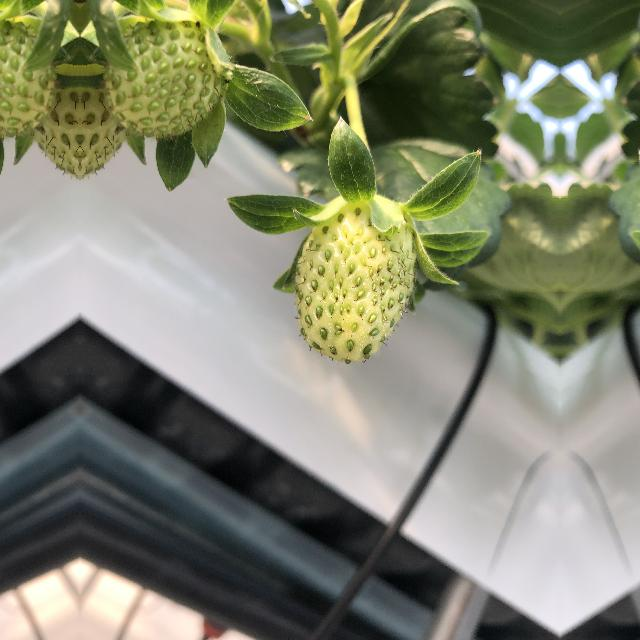Health_25: (276, 185, 430, 373)
